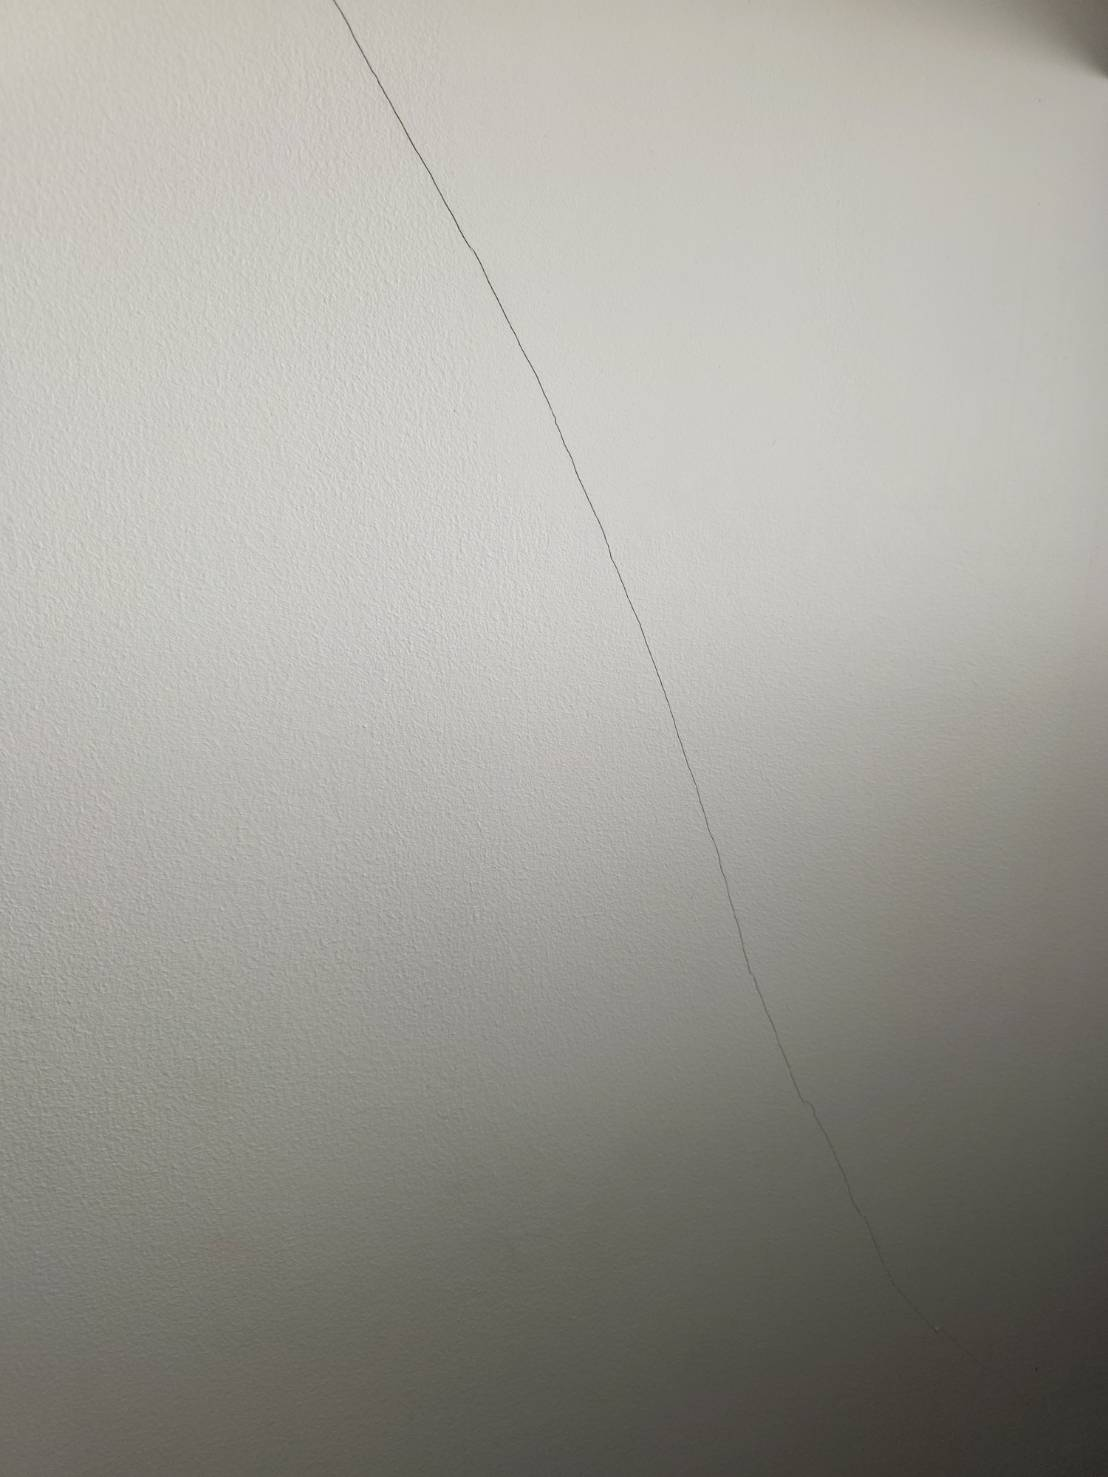Low: (307, 6, 1080, 1469)
